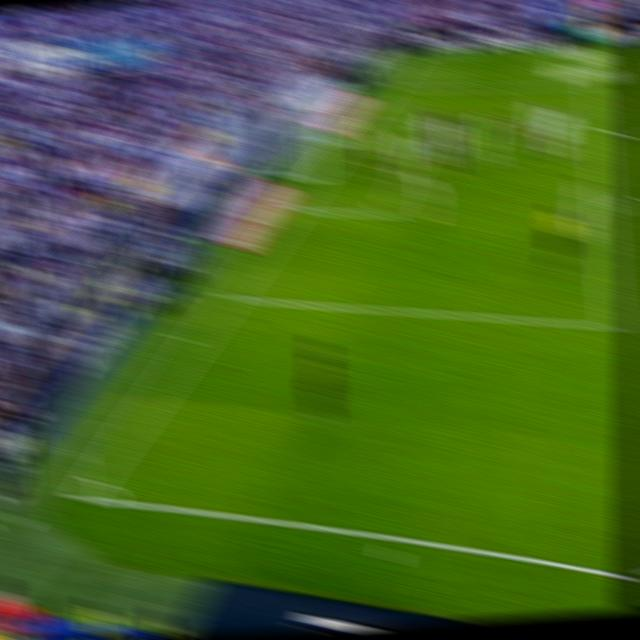bigarea_bottom_inner: (375, 200, 398, 225)
bottom_arc_area_intersection: (216, 285, 240, 309)
corner: (401, 48, 423, 60)
smallarea_bottom_outter: (282, 197, 304, 218)
